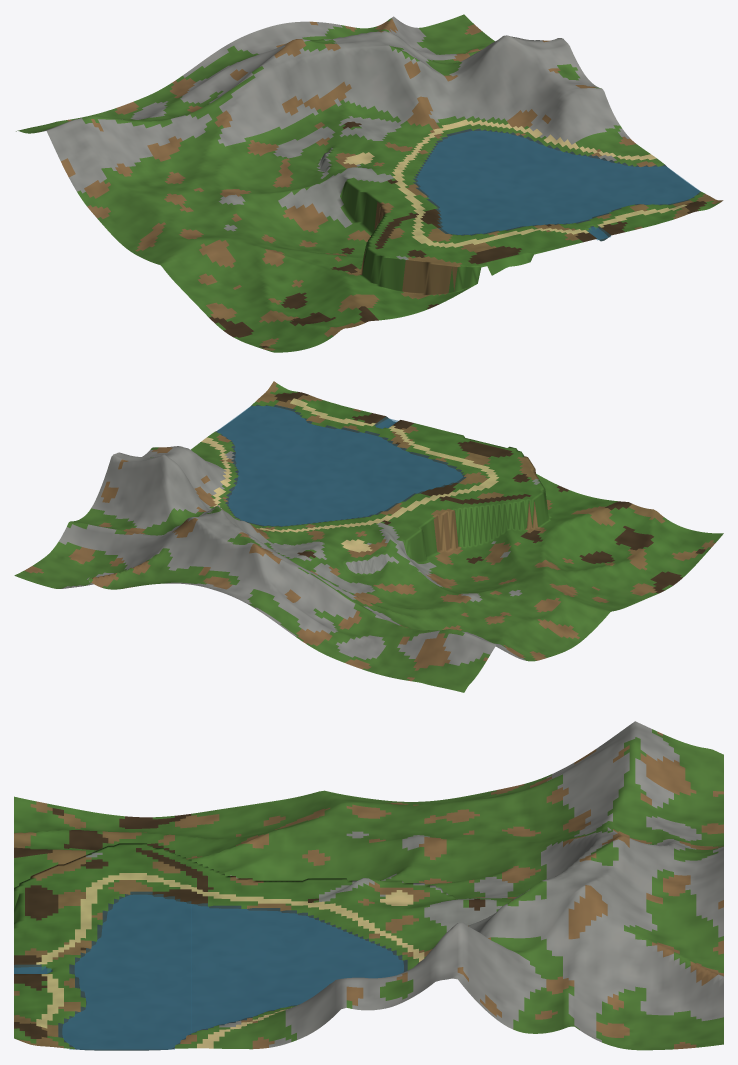
Rendered from chunk_2_1.glb.
3 views of the same model, one above another, from view 1: azimuth 30°, elevation 25°; view 2: azimuth 150°, elevation 25°; view 3: azimuth 270°, elevation 25° (orthographic). The views are drawn at different scales.
Visible parts, largest first — view 1: Surface_Grass, Surface_Gravel, Surface_Water, Water, Surface_Dirt, Surface_Mud, Surface_Sand; view 2: Surface_Grass, Surface_Gravel, Surface_Water, Water, Surface_Dirt, Surface_Mud, Surface_Sand; view 3: Surface_Grass, Surface_Gravel, Surface_Water, Water, Surface_Dirt, Surface_Mud, Surface_Sand.
Part boxes in pixels (bbox=[...]): Surface_Grass: bbox=[16, 14, 719, 352]; Surface_Gravel: bbox=[41, 16, 629, 259]; Surface_Water: bbox=[413, 128, 701, 241]; Water: bbox=[416, 130, 699, 240]; Surface_Dirt: bbox=[38, 19, 723, 350]; Surface_Mud: bbox=[209, 121, 706, 347]; Surface_Sand: bbox=[343, 119, 686, 247]; Surface_Grass: bbox=[14, 383, 723, 692]; Surface_Gravel: bbox=[59, 446, 540, 665]; Surface_Water: bbox=[215, 404, 466, 526]; Water: bbox=[217, 406, 462, 526]; Surface_Dirt: bbox=[24, 381, 715, 681]; Surface_Mud: bbox=[274, 392, 705, 593]; Surface_Sand: bbox=[201, 398, 498, 552]; Surface_Grass: bbox=[14, 729, 723, 1050]; Surface_Gravel: bbox=[86, 721, 723, 1047]; Surface_Water: bbox=[14, 891, 407, 1050]; Water: bbox=[14, 894, 403, 1049]; Surface_Dirt: bbox=[14, 731, 723, 1049]; Surface_Mud: bbox=[14, 808, 485, 1038]; Surface_Sand: bbox=[36, 873, 424, 1048].
Size of the model in its own units: 256 by 63.14 by 256.
